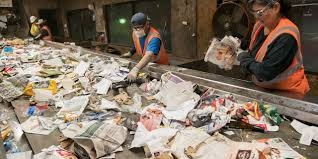paper: (59, 113, 133, 159), (154, 72, 208, 127), (192, 128, 263, 159), (130, 119, 186, 152), (285, 117, 318, 145)
plastic: (259, 101, 288, 126), (239, 99, 265, 120)
